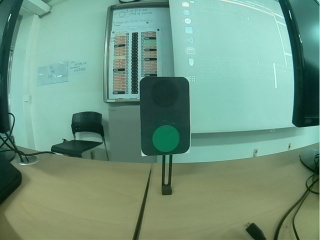green_light: (140, 79, 189, 157)
